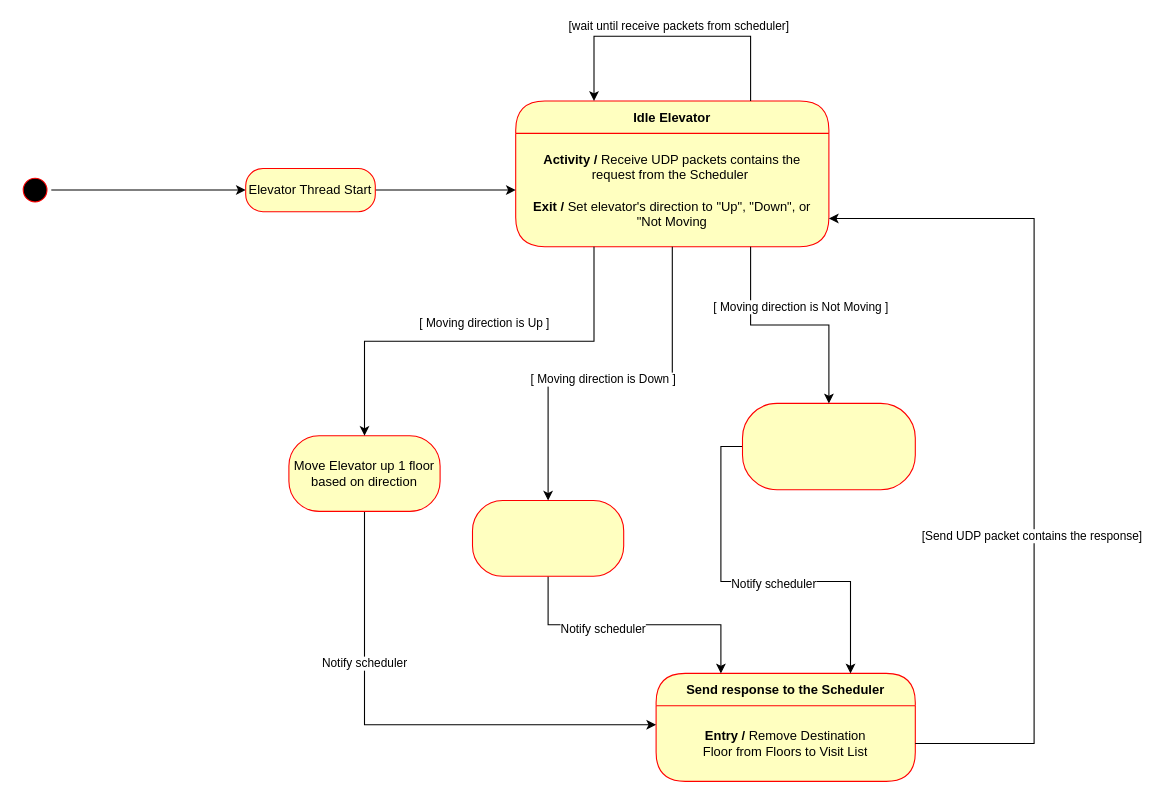
The diagram is 1160 pixels wide and 800 high, and some of its shapes have lost their labels. The centre of each missing label's shape, as x and y in pixels:
"Elevator open the door to let passenger off" belongs at [828,446].
"Move Elevator down 1 floor based on direction" belongs at [547,538].
